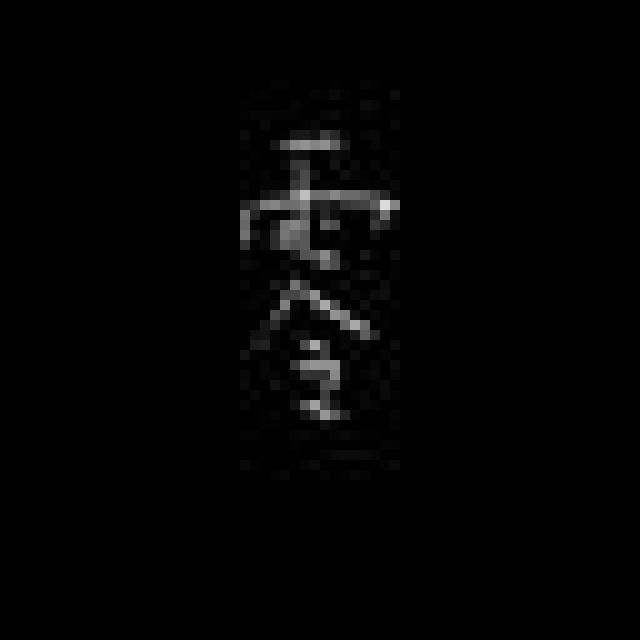0 -zero-: (226, 123, 406, 431)
